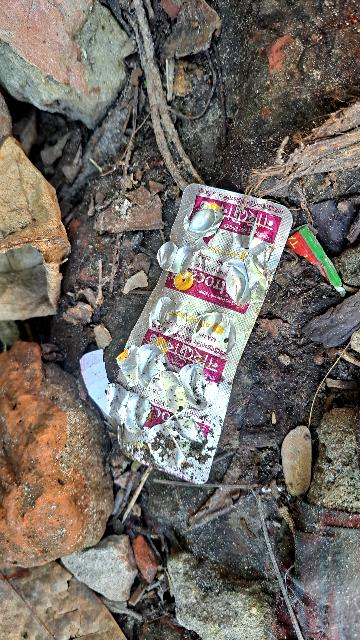medicine: (103, 179, 297, 488)
